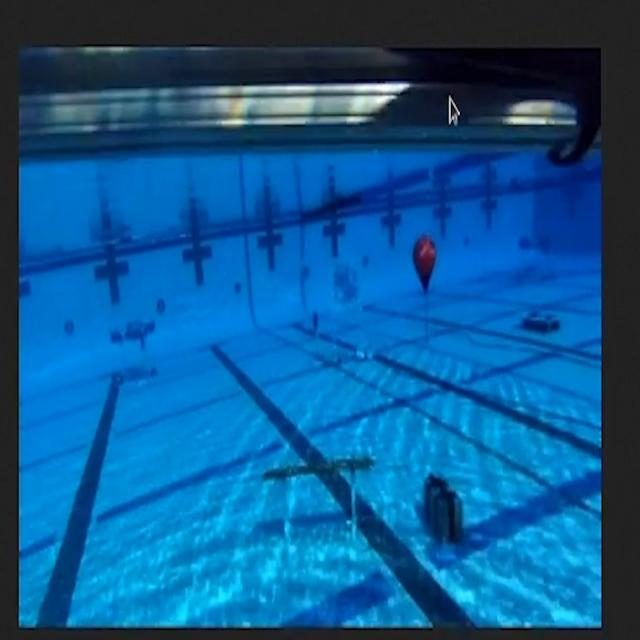Buoy: (410, 224, 446, 304)
